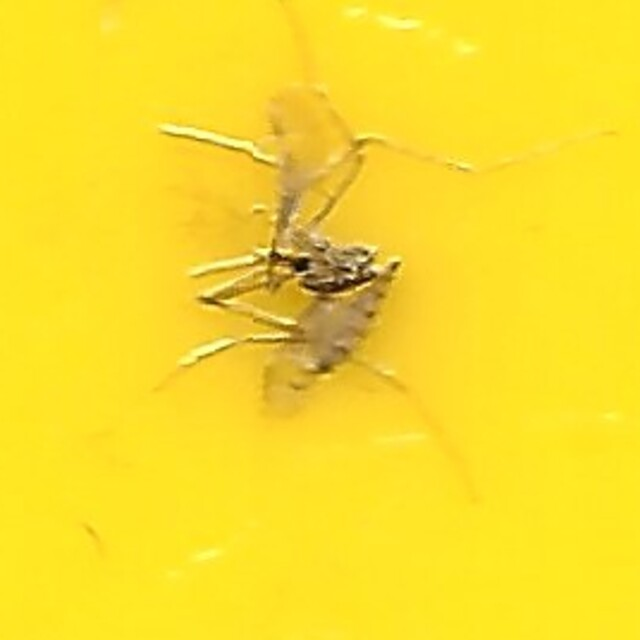Nematocera: (239, 224, 401, 416)
